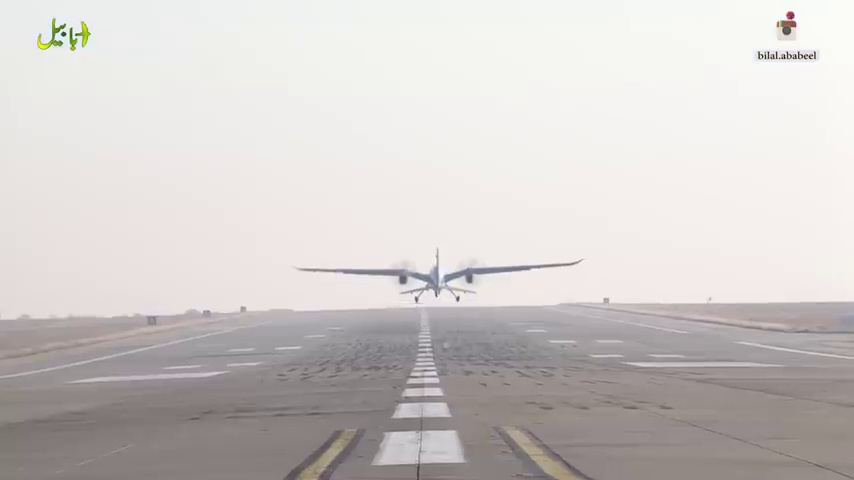military drone: (292, 246, 584, 303)
